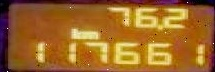-: (153, 22, 162, 30)
1: (31, 39, 44, 63), (191, 42, 204, 65), (65, 40, 76, 62)
2: (160, 6, 186, 27)
6: (142, 41, 171, 65), (111, 40, 138, 64), (131, 6, 158, 26)
7: (80, 40, 106, 64), (104, 5, 129, 26)
X: (66, 26, 80, 37), (80, 30, 98, 37)
